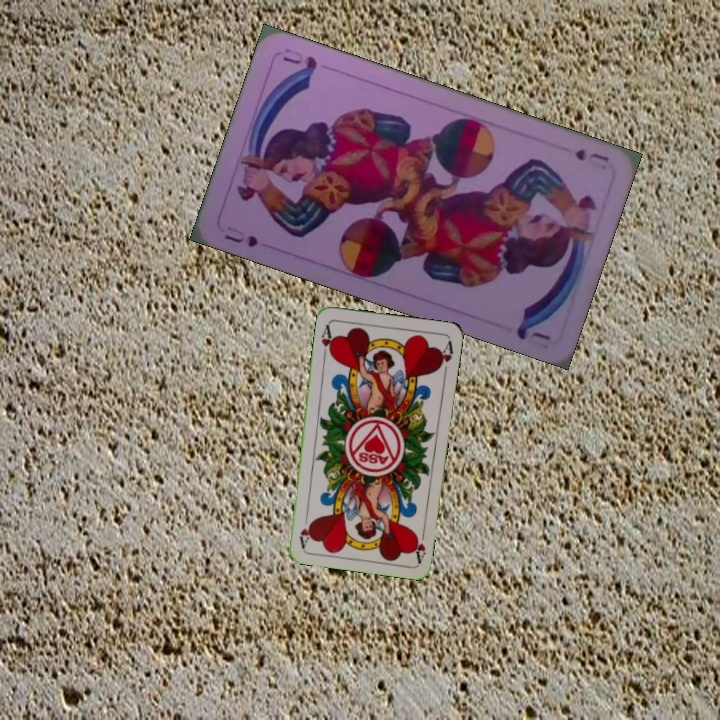HA: (317, 320, 336, 361), (409, 524, 428, 564)
SU: (220, 222, 261, 250), (571, 144, 612, 165)
